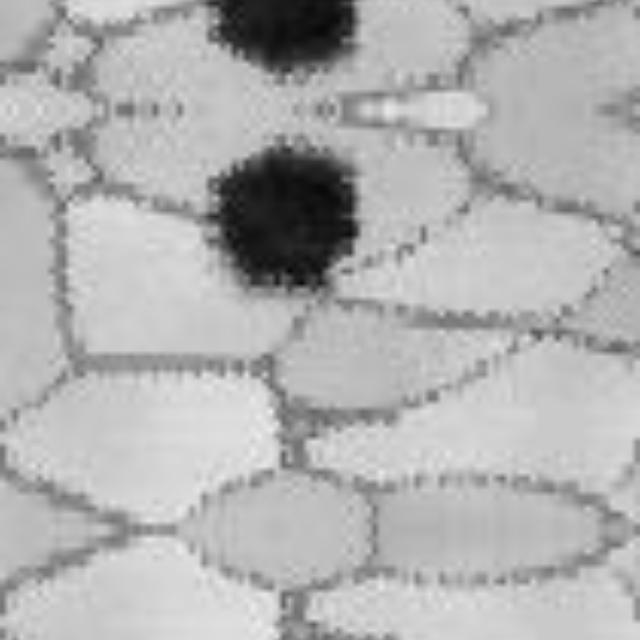good_void: (192, 124, 368, 305), (196, 0, 367, 94)
